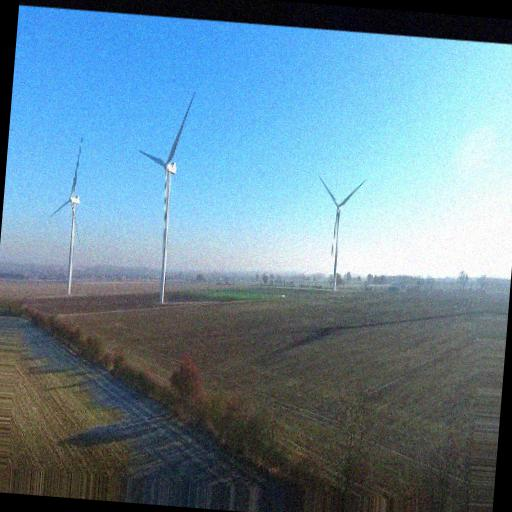wind turbine: (135, 92, 197, 304), (50, 135, 89, 293), (317, 175, 368, 287)
